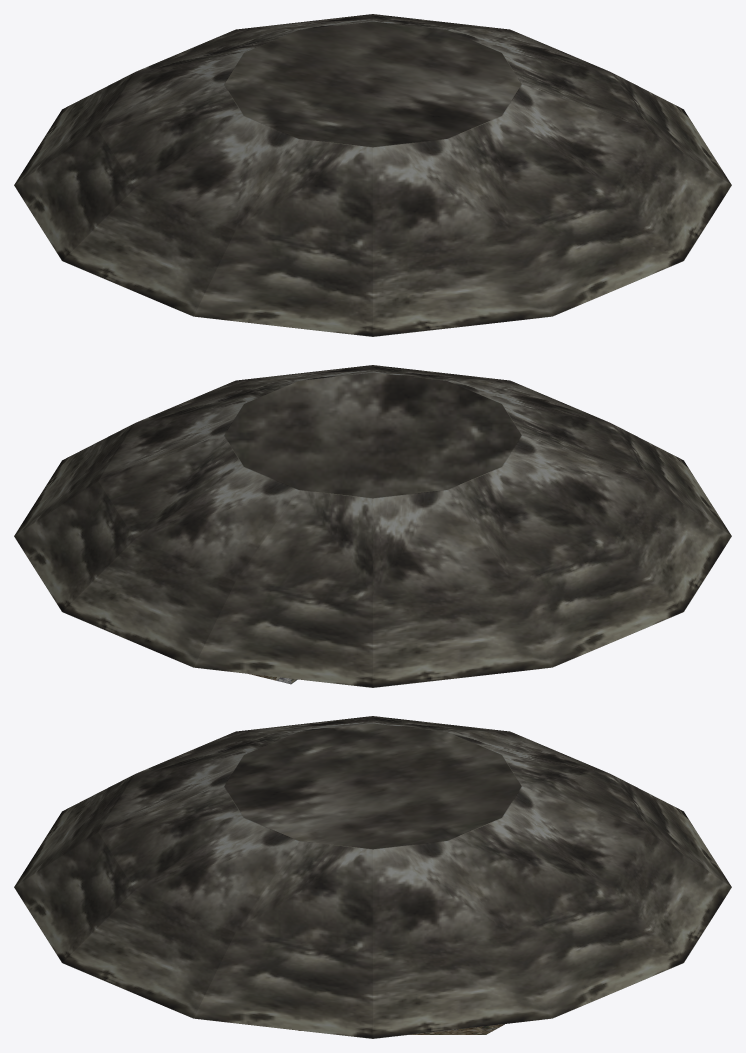
Rendered from recovered_map_mp52.glb.
3 renders of one model, top to bottom at view 1: azimuth 30°, elevation 25°; view 2: azimuth 150°, elevation 25°; view 3: azimuth 270°, elevation 25°, orthographic.
Visible parts, largest first — view 1: S_mp52_sky01c; view 2: S_mp52_sky01c; view 3: S_mp52_sky01c.
Part boxes in pixels (x1,y1,x2,y2): S_mp52_sky01c: [14, 14, 731, 336]; S_mp52_sky01c: [14, 365, 731, 687]; S_mp52_sky01c: [14, 716, 731, 1038].
Size of what is drawn, in the model's own units: 1053 by 340 by 1053.
49 materials, 49 textured.
